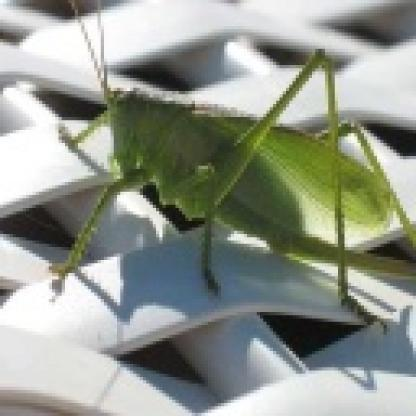grasshopper: (57, 2, 416, 326)
